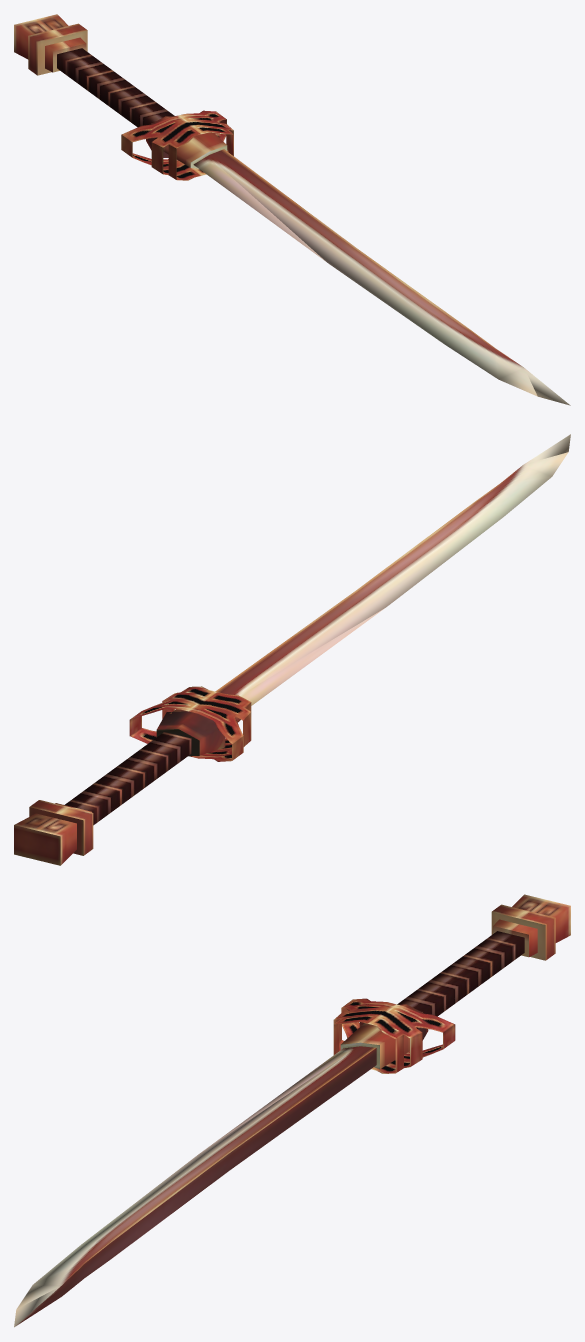
The picture shows the model from 3 angles, top to bottom: view 1: azimuth 30°, elevation 25°; view 2: azimuth 150°, elevation 25°; view 3: azimuth 330°, elevation 25°; orthographic projection. The views are drawn at different scales.
Visible parts, largest first — view 1: W901R; view 2: W901R; view 3: W901R.
Boxes of the visible parts, bbox=[...] form: W901R: bbox=[14, 14, 570, 405]; W901R: bbox=[14, 434, 570, 865]; W901R: bbox=[14, 894, 570, 1327].
Size of the model in its own units: 3.08 by 1.29 by 29.02.
Materials: 2 (2 with a texture image).
